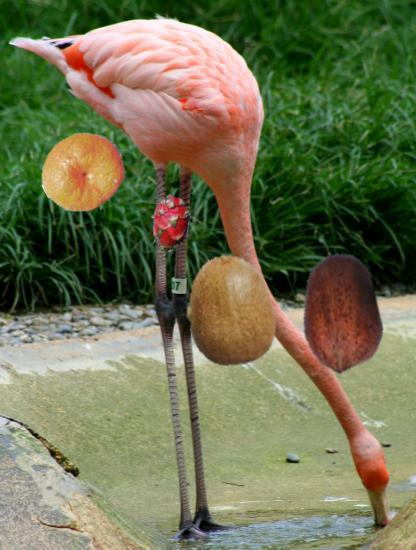Kiwi: (174, 253, 289, 368)
Mandarine: (40, 130, 125, 215)
Nut: (280, 253, 401, 374)
Pitahaya: (143, 194, 201, 252)
